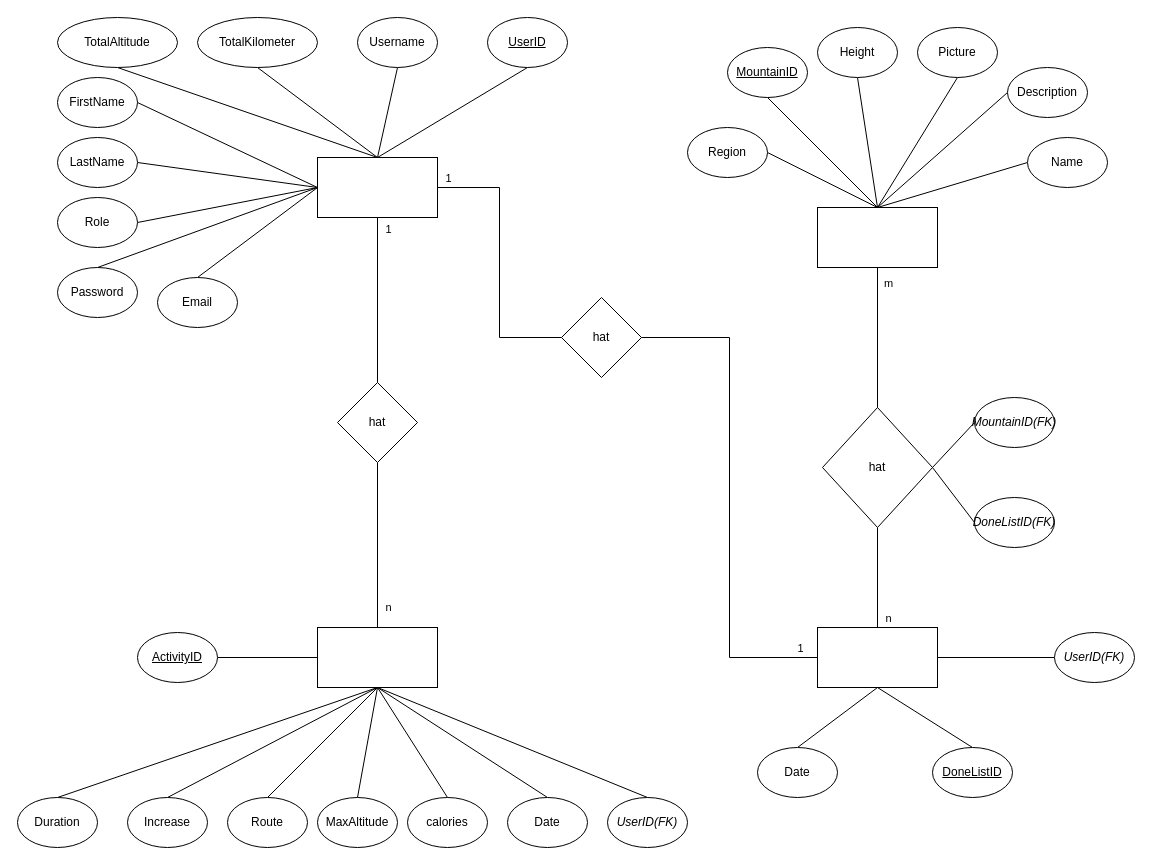
Image size: 1152x865. Some labels were removed from this diagram. The shapes that lost their labels are listed below. From the top down, each one's box as (x1, y1, x2, y2) in pixels, then its label:
(316, 156, 438, 218): User
(816, 206, 938, 268): Mountain
(316, 626, 438, 688): Activity
(816, 626, 938, 688): DoneList
